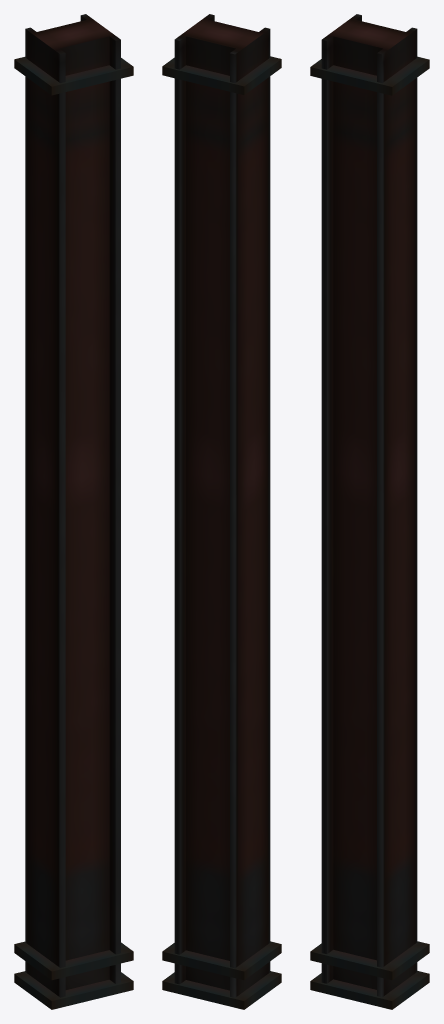
The model's file is Beam_05.FBX.
The picture shows the model from 3 angles, left to right: view 1: azimuth 30°, elevation 25°; view 2: azimuth 150°, elevation 25°; view 3: azimuth 330°, elevation 25°; orthographic projection.
Visible parts, largest first — view 1: Beam_05; view 2: Beam_05; view 3: Beam_05.
Part boxes in pixels (x1,y1,x2,y2): Beam_05: (14, 14, 133, 1009); Beam_05: (162, 14, 281, 1009); Beam_05: (310, 14, 429, 1009).
Size of the model in its own units: 27.03 by 300 by 21.4.
